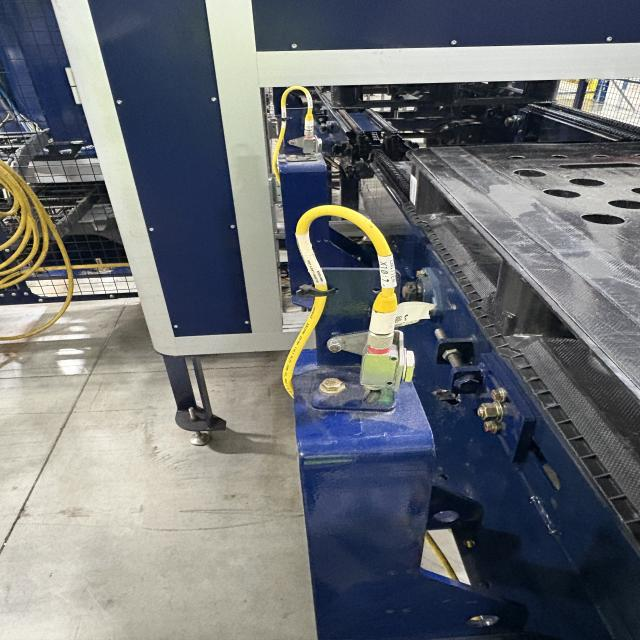igps: (391, 135, 640, 575)
